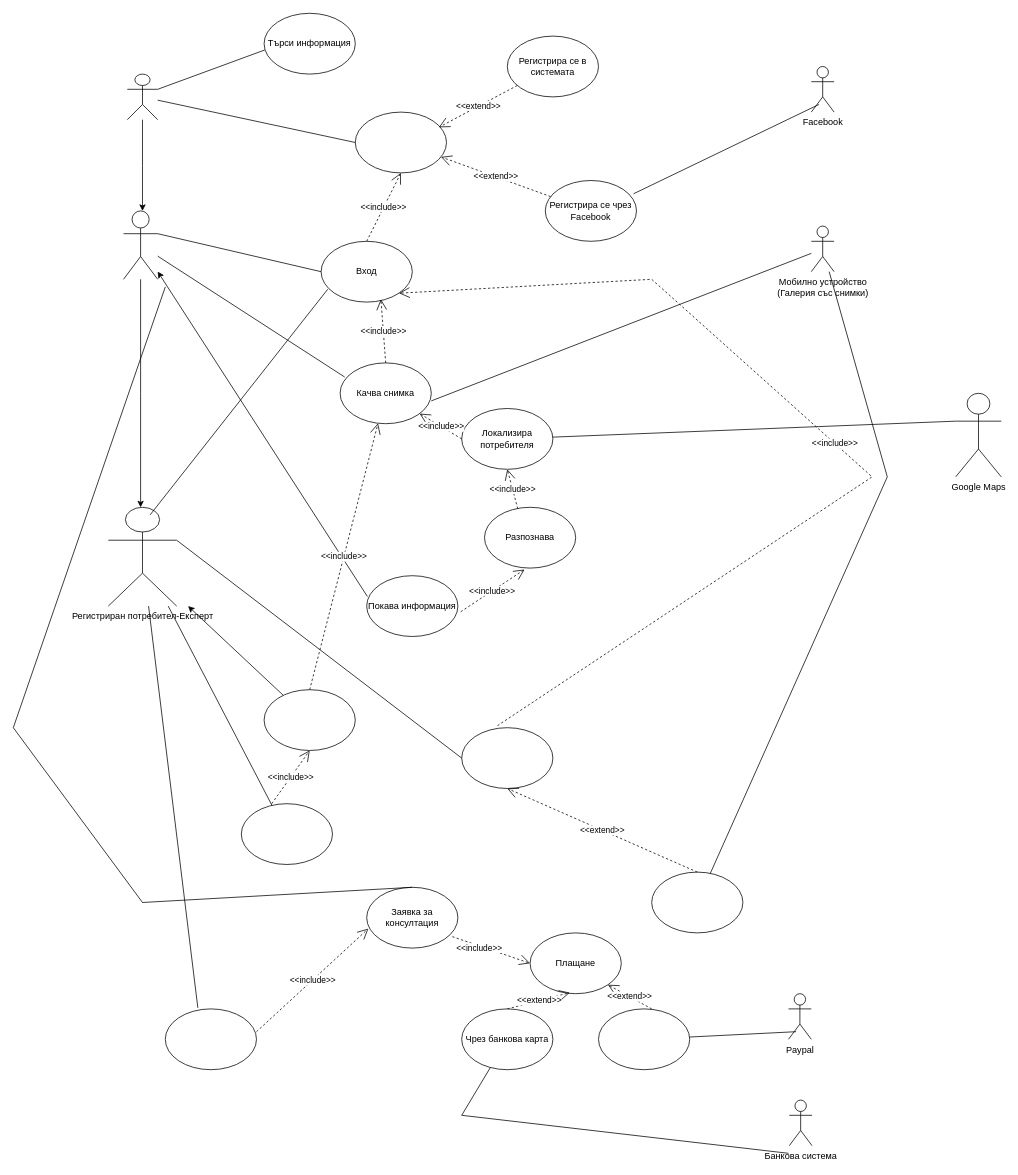
Some shapes in this 1018 by 1175 pixel diagram are drawn without their labels. Each missing label, with the centre of its shape:
Добавя снимков материал: the point at 697,902
Качва информация: the point at 507,757
Консултира: the point at 210,1039
Нерегистриран потребител: the point at 142,96
Получава снимка: the point at 309,719
Регистрира се: the point at 400,142
Регистриран потребител-Обикновен: the point at 140,244
Сигнализира: the point at 286,833
Чрез Paypal: the point at 644,1039
